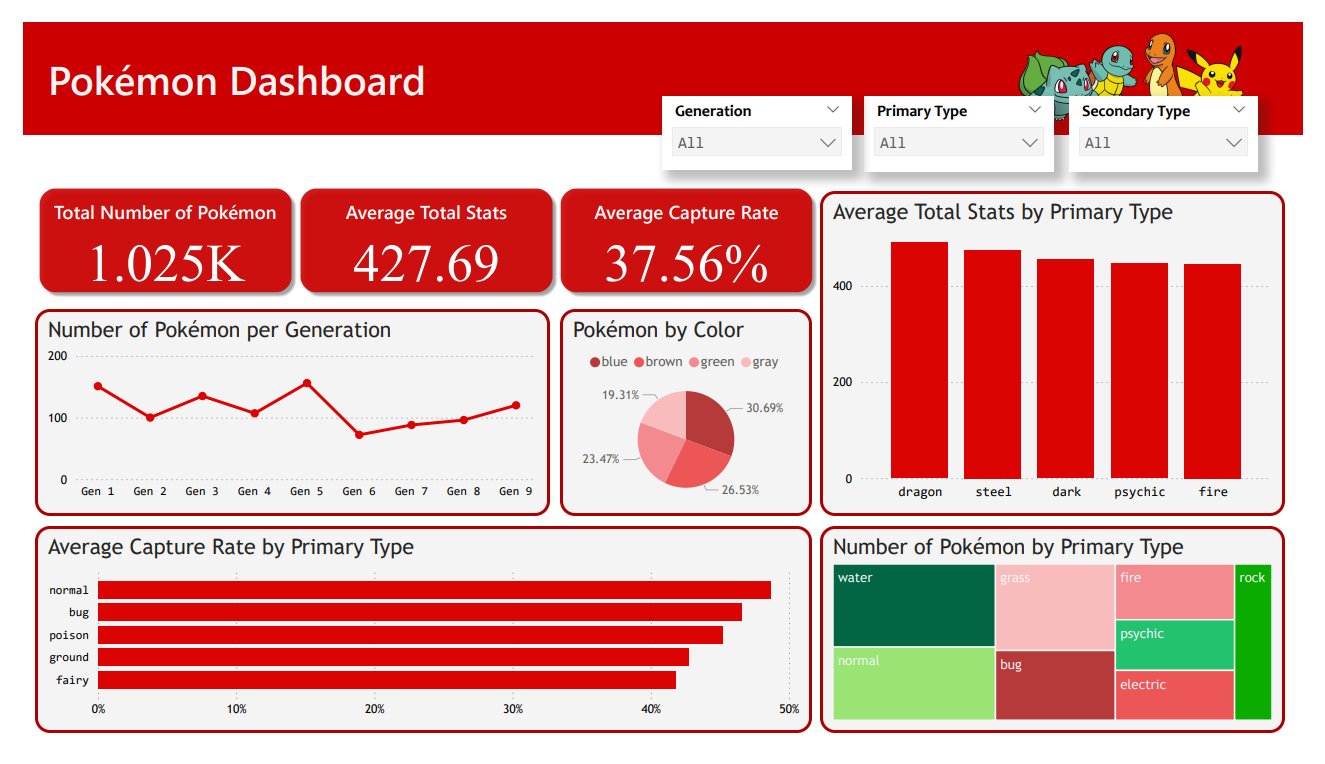

Layout of this report page (visuals, bound fields, positions):
{"tool":"powerbi","page":{"name":"Page 1","canvas":[1280,720],"ordinal":0},"visuals":[{"type":"cardVisual","fields":{"Data":["Count(pokemon.pokemon_id)"]},"box":[0,149.6,285.4,137.2],"z":0},{"type":"cardVisual","fields":{"Data":["Avg(pokemon.total_stats)"]},"box":[260.7,149.6,285.4,137.2],"z":1000},{"type":"cardVisual","fields":{"Data":["Avg(pokemon.capture_rate)"]},"box":[521.4,149.6,285.4,137.2],"z":2000},{"type":"treemap","title":"Number of Pokémon by Primary Type","fields":{"Values":["Count(pokemon.pokemon_id)"],"Details":["pokemon.primary_type"]},"box":[797.3,503.6,465,207.2],"z":3000},{"type":"clusteredColumnChart","title":"Average Total Stats by Primary Type","fields":{"Category":["pokemon.primary_type"],"Y":["Avg(pokemon.total_stats)"]},"box":[797.3,168.8,465.2,325.2],"z":4000},{"type":"pieChart","title":"Pokémon by Color","fields":{"Category":["pokemon.color"],"Y":["CountNonNull(pokemon.pokemon_id)"]},"box":[536.5,286.8,252.5,207.2],"z":5000},{"type":"lineChart","title":"Number of Pokémon per Generation","fields":{"Category":["pokemon.generation"],"Y":["Count(pokemon.pokemon_id)"]},"box":[12.3,286.8,515,207.2],"z":6000},{"type":"shape","box":[0,0,1280.3,112.5],"z":7000},{"type":"image","box":[982.5,0,249.7,115.3],"z":8000},{"type":"slicer","fields":{"Values":["pokemon.primary_type"]},"box":[841.2,74.1,189.4,75.5],"z":9000},{"type":"slicer","fields":{"Values":["pokemon.generation"]},"box":[639.5,74.1,189.4,74.1],"z":10000},{"type":"slicer","fields":{"Values":["pokemon.secondary_type"]},"box":[1045.6,74.1,189.4,75.5],"z":11000},{"type":"clusteredBarChart","title":"Average Capture Rate by Primary Type","fields":{"Y":["Avg(pokemon.capture_rate)"],"Category":["pokemon.primary_type"]},"box":[12.3,503.6,776.7,207.2],"z":12000}]}

Visuals, with their boxes in screenshot pixels (x1, y1, x2, y2), scaled from the page's 1280x720 canvas onto the 1325x764 screenshot:
cardVisual - Count(pokemon.pokemon_id): 0, 159, 295, 304
cardVisual - Avg(pokemon.total_stats): 270, 159, 565, 304
cardVisual - Avg(pokemon.capture_rate): 540, 159, 835, 304
"Number of Pokémon by Primary Type" treemap: 825, 534, 1307, 754
"Average Total Stats by Primary Type" clusteredColumnChart: 825, 179, 1307, 524
"Pokémon by Color" pieChart: 555, 304, 817, 524
"Number of Pokémon per Generation" lineChart: 13, 304, 546, 524
shape: 0, 0, 1324, 119
image: 1017, 0, 1276, 122
slicer - pokemon.primary_type: 871, 79, 1067, 159
slicer - pokemon.generation: 662, 79, 858, 157
slicer - pokemon.secondary_type: 1082, 79, 1278, 159
"Average Capture Rate by Primary Type" clusteredBarChart: 13, 534, 817, 754
